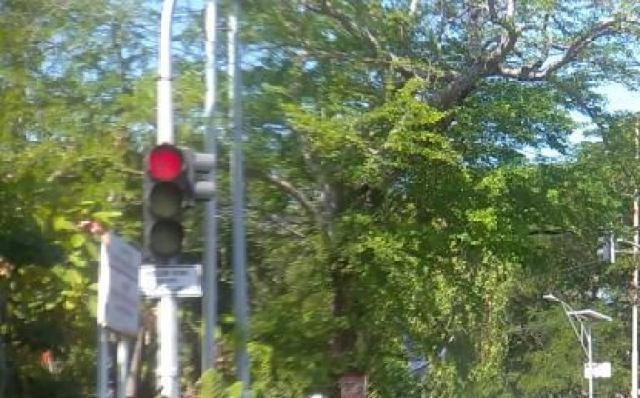red_light: (144, 143, 188, 264)
